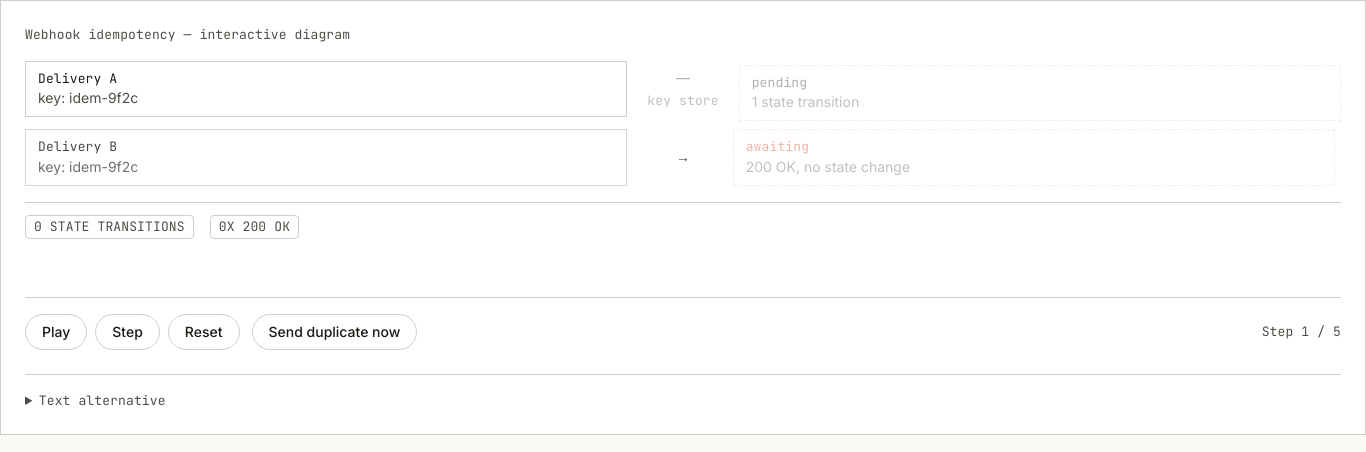
Test: WebhookIdempotencyDiagram › Step's own label reaches 'Step 5 / 5' and disables Step at the final frame
The width and height of the screenshot is (1366, 452).
What coordinates should you click on to do the following:
click the button "Step"
I would click on:
 (128, 332)
Its box is [95,314,160,350].
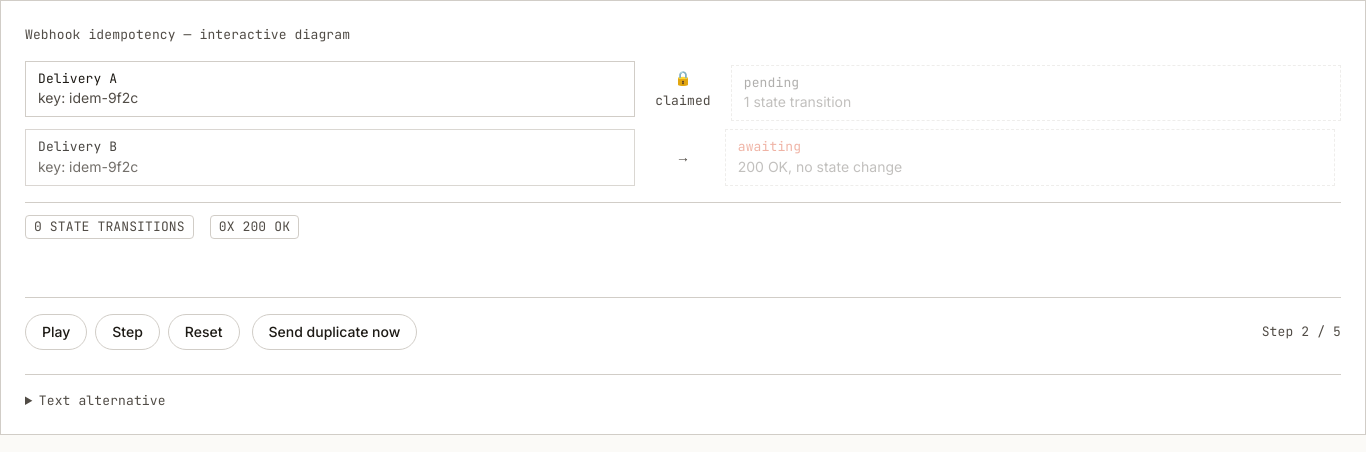
What coordinates should you click on to do the following:
click the button "Step"
I would click on:
 (128, 332)
Its box is [95,314,160,350].
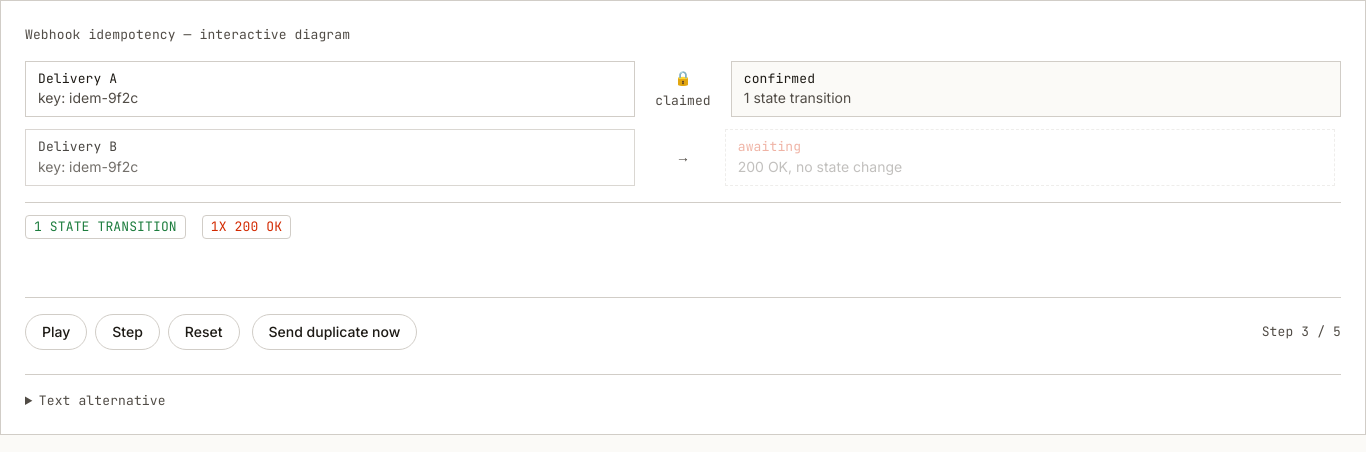
What coordinates should you click on to do the following:
click the button "Step"
I would click on:
 (128, 332)
Its box is [95,314,160,350].
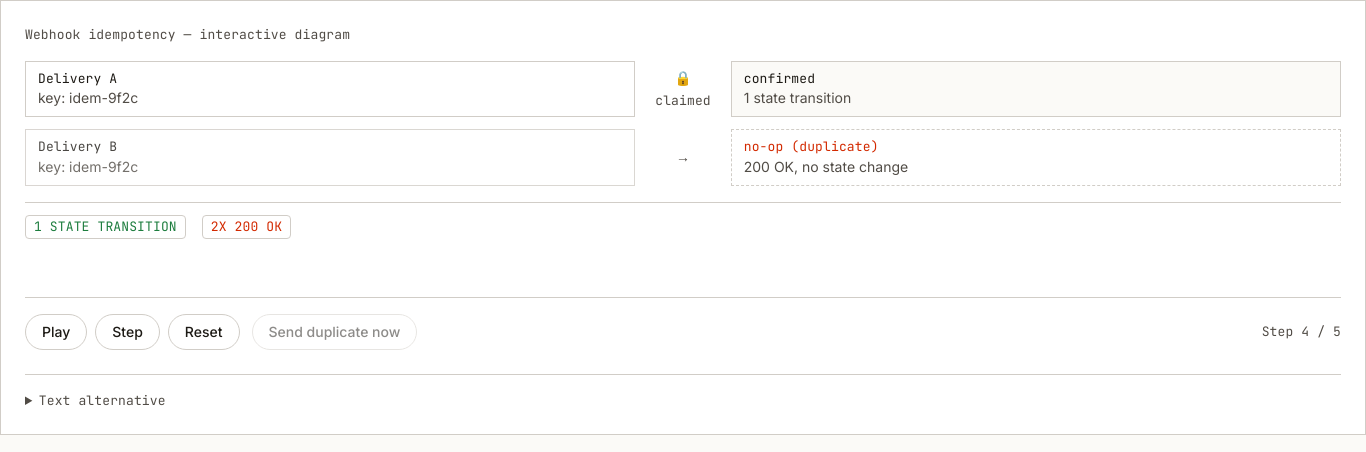
What coordinates should you click on to do the following:
click the button "Step"
I would click on:
 (128, 332)
Its box is [95,314,160,350].
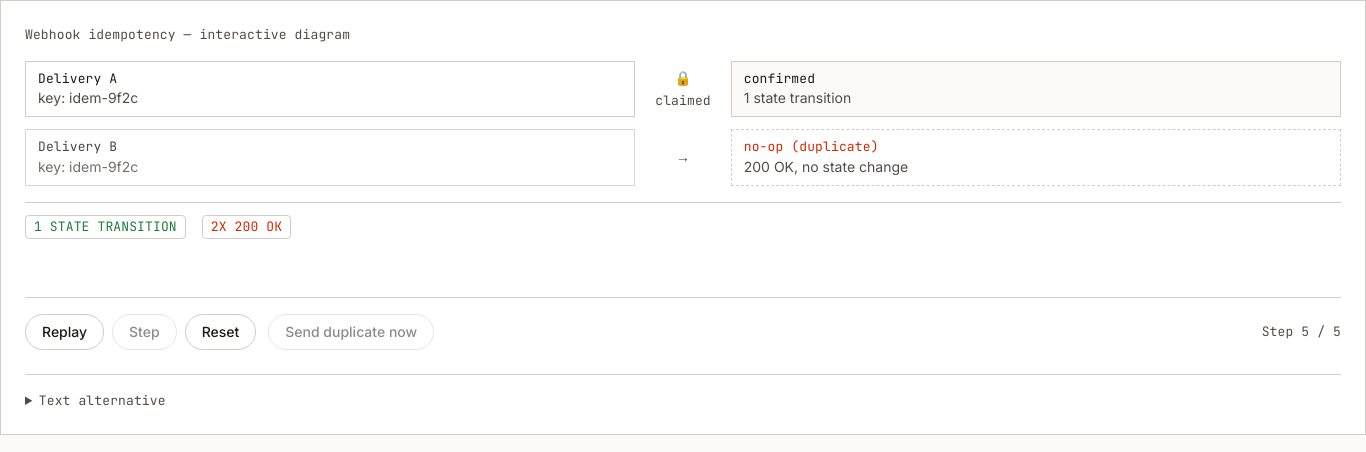
Expected: the text "Step 5 / 5" is shown, [1262,322,1341,341]
Expected: the button "Step" is disabled, [112,314,177,350]
